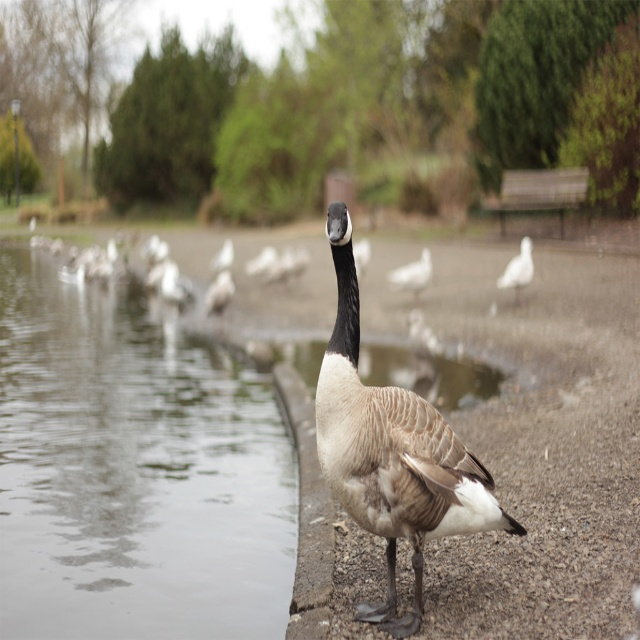Duck: (306, 220, 538, 617)
